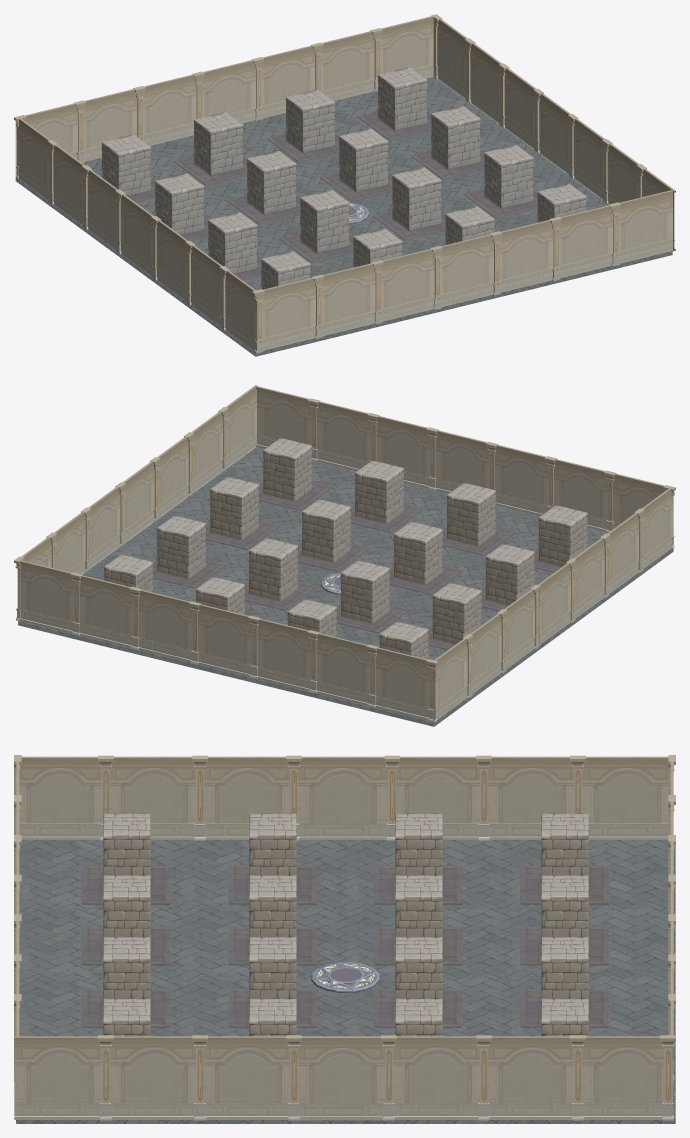
File: map2.glb
3 views of the same model, one above another, from view 1: azimuth 30°, elevation 25°; view 2: azimuth 150°, elevation 25°; view 3: azimuth 270°, elevation 25° (orthographic). The views are drawn at different scales.
Visible parts, largest first — view 1: Annex's Golden Mosaic - Room A.001, tripo_node_31ce2f94-d425-4ca1-85f7-3b87e49a0e99, Foundations of Stone: Grand Design.001, Foundations of Stone: Path of Cultivation.017; view 2: Annex's Golden Mosaic - Room A.001, tripo_node_31ce2f94-d425-4ca1-85f7-3b87e49a0e99, Foundations of Stone: Grand Design.001, Foundations of Stone: Path of Cultivation.017; view 3: Annex's Golden Mosaic - Room A.001, Foundations of Stone: Grand Design.001, tripo_node_31ce2f94-d425-4ca1-85f7-3b87e49a0e99, Foundations of Stone: Path of Cultivation.017, tripo_node_9f185ef0-910a-4605-a79b-9d49d6030dc2.
Part boxes in pixels (box(x1,y1,x2,y2)): Annex's Golden Mosaic - Room A.001: box(14, 14, 675, 353); tripo_node_31ce2f94-d425-4ca1-85f7-3b87e49a0e99: box(101, 67, 586, 289); Foundations of Stone: Grand Design.001: box(15, 77, 672, 356); Foundations of Stone: Path of Cultivation.017: box(127, 111, 537, 280); Annex's Golden Mosaic - Room A.001: box(14, 385, 675, 722); tripo_node_31ce2f94-d425-4ca1-85f7-3b87e49a0e99: box(104, 438, 587, 659); Foundations of Stone: Grand Design.001: box(18, 446, 673, 726); Foundations of Stone: Path of Cultivation.017: box(153, 481, 561, 650); Annex's Golden Mosaic - Room A.001: box(14, 755, 675, 1120); Foundations of Stone: Grand Design.001: box(16, 840, 675, 1123); tripo_node_31ce2f94-d425-4ca1-85f7-3b87e49a0e99: box(103, 813, 588, 1036); Foundations of Stone: Path of Cultivation.017: box(81, 865, 608, 1027); tripo_node_9f185ef0-910a-4605-a79b-9d49d6030dc2: box(311, 962, 380, 992).
Bounding box in the file's own units: 9.18 × 1.33 × 9.07.
Materials: 61 (61 with a texture image).
